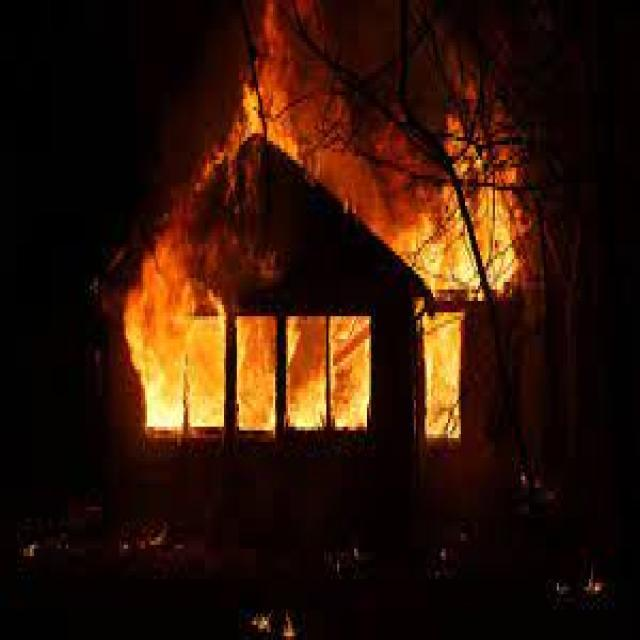Fire: (118, 254, 230, 426), (422, 125, 503, 311), (424, 324, 468, 449), (238, 311, 278, 441), (287, 312, 327, 426), (335, 319, 368, 441)
Smoke: (241, 0, 434, 241)
